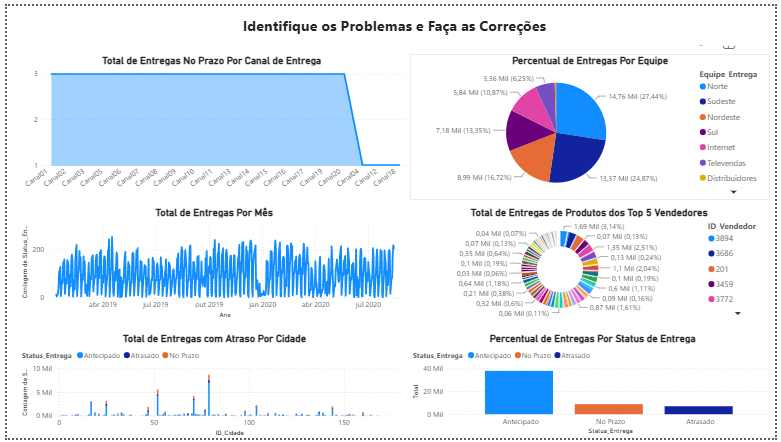

The page's visual inventory and layout, read from the dashboard file:
{"tool":"powerbi","page":{"name":"Página 1","canvas":[1920,1080],"ordinal":0},"visuals":[{"type":"areaChart","title":"Entregas no Prazo por Canal de Entrega","fields":{"Category":["Logistica.Canal_Entrega"],"Y":["Medidas.Entregas_Noprazo"]},"box":[15,378.3,908.3,328.3],"z":0},{"type":"clusteredBarChart","title":"Entregas Antecipadas por Equipe de Entrega","fields":{"Category":["Logistica.Equipe_Entrega"],"Y":["Medidas.Entregas_Anteciapdas"]},"box":[936.7,128.3,556.7,578.3],"z":1000},{"type":"lineChart","title":"Total de Entregas Por Mês","fields":{"Category":["Logistica.Data_Entrega_Realizada.Variation.Hierarquia de datas.Mês"],"Y":["Medidas.Total_Entregas"]},"box":[15,726.7,908.3,336.7],"z":2000},{"type":"columnChart","title":"Percentual de Entregas por Status","fields":{"Category":["Logistica.Status_Entrega"],"Y":["Medidas.Total_Entregas"]},"box":[936.7,726.7,556.7,336.7],"z":3000},{"type":"tableEx","fields":{"Values":["Logistica.ID_Vendedor","Medidas.Total_Entregas","Medidas.Rating"]},"box":[1505,112.5,405,265],"z":4000},{"type":"tableEx","fields":{"Values":["Logistica.ID_Cidade","Medidas.Entregas_Atrasadas"]},"box":[1505,390,403.3,673.3],"z":5000},{"type":"cardVisual","fields":{"Data":["Medidas.Total_Entregas"]},"box":[15,122.5,290,236.7],"z":6000},{"type":"cardVisual","fields":{"Data":["Medidas.Entregas_Noprazo_Antecipadas"]},"box":[325,125,290,236.7],"z":7000},{"type":"cardVisual","fields":{"Data":["Medidas.Entregas_Atrasadas"]},"box":[632.5,125,290,236.7],"z":8000},{"type":"slicer","fields":{"Values":["Logistica.Data_Entrega_Realizada.Variation.Hierarquia de datas.Ano"]},"box":[1372.5,22.5,537.5,80],"z":9000},{"type":"shape","box":[418.3,11.8,954.3,98.2],"z":10000},{"type":"textbox","box":[459.5,23.6,870,75],"z":11000}]}

Visuals, with their boxes in screenshot pixels (x1, y1, x2, y2), scaled from the page's 1920x1080 canvas onto the 781x442 screenshot:
"Entregas no Prazo por Canal de Entrega" areaChart: {"left": 6, "top": 155, "right": 376, "bottom": 289}
"Entregas Antecipadas por Equipe de Entrega" clusteredBarChart: {"left": 381, "top": 53, "right": 607, "bottom": 289}
"Total de Entregas Por Mês" lineChart: {"left": 6, "top": 297, "right": 376, "bottom": 435}
"Percentual de Entregas por Status" columnChart: {"left": 381, "top": 297, "right": 607, "bottom": 435}
tableEx - Logistica.ID_Vendedor x Medidas.Total_Entregas: {"left": 612, "top": 46, "right": 777, "bottom": 154}
tableEx - Logistica.ID_Cidade x Medidas.Entregas_Atrasadas: {"left": 612, "top": 160, "right": 776, "bottom": 435}
cardVisual - Medidas.Total_Entregas: {"left": 6, "top": 50, "right": 124, "bottom": 147}
cardVisual - Medidas.Entregas_Noprazo_Antecipadas: {"left": 132, "top": 51, "right": 250, "bottom": 148}
cardVisual - Medidas.Entregas_Atrasadas: {"left": 257, "top": 51, "right": 375, "bottom": 148}
slicer - Logistica.Data_Entrega_Realizada.Variation.Hierarquia de datas.Ano: {"left": 558, "top": 9, "right": 777, "bottom": 42}
shape: {"left": 170, "top": 5, "right": 558, "bottom": 45}
textbox: {"left": 187, "top": 10, "right": 541, "bottom": 40}
